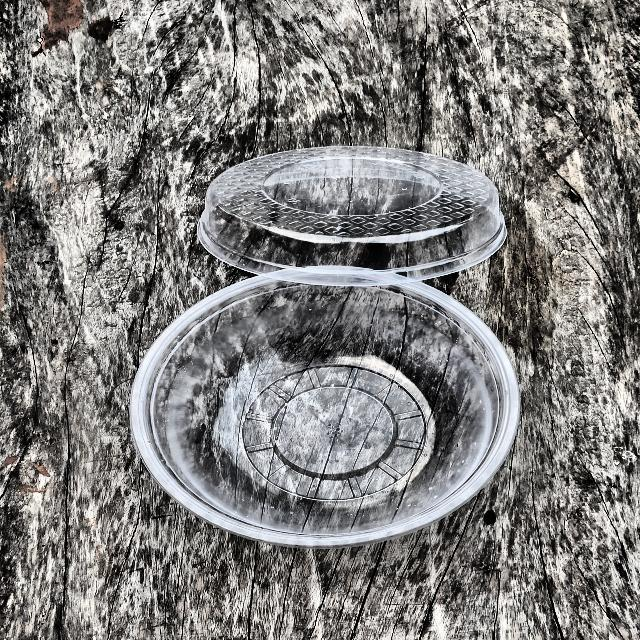plastic container: (104, 132, 531, 561)
